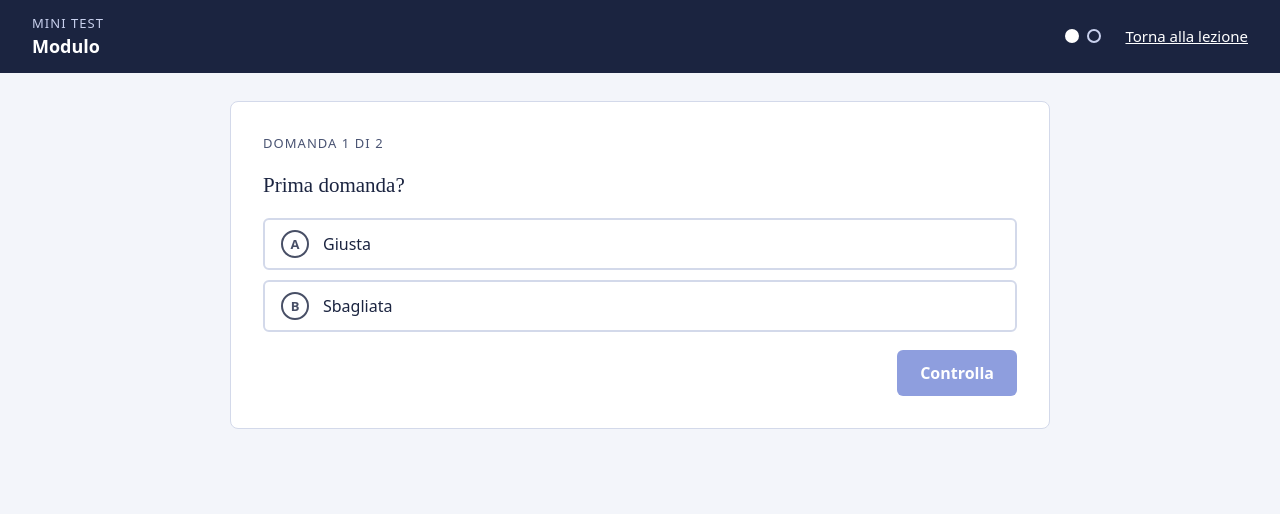
corregge subito ogni domanda e alla fine mostra il risultato
The width and height of the screenshot is (1280, 514).
Expected: the button "Controlla" is disabled, [897, 350, 1017, 396]
Click the button "B Sbagliata": (358, 306) [263, 280, 1017, 332]
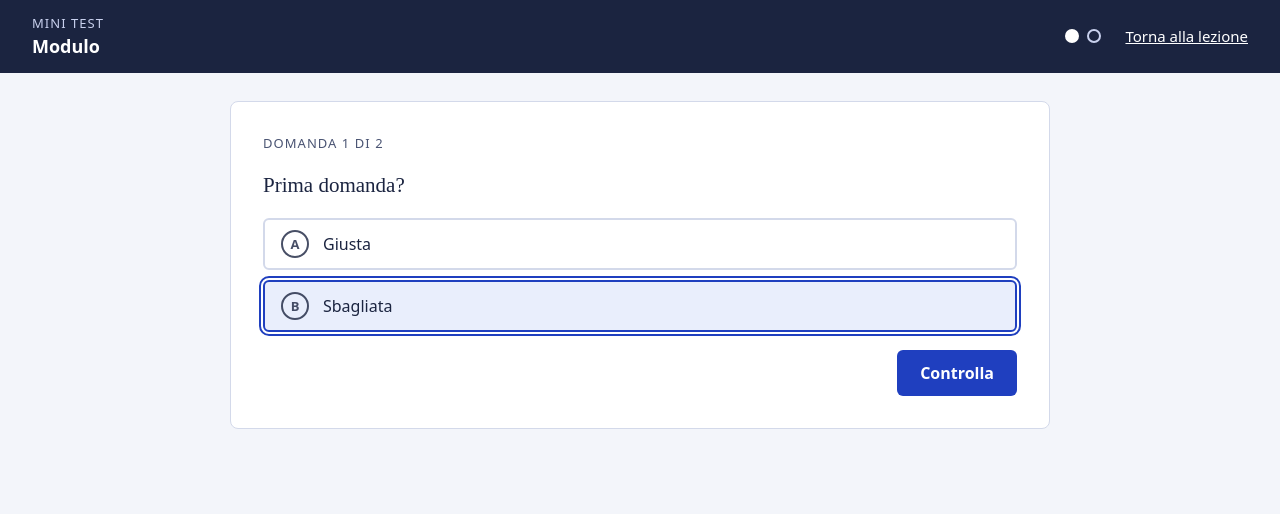
Click the button "Controlla": (957, 373) [897, 350, 1017, 396]
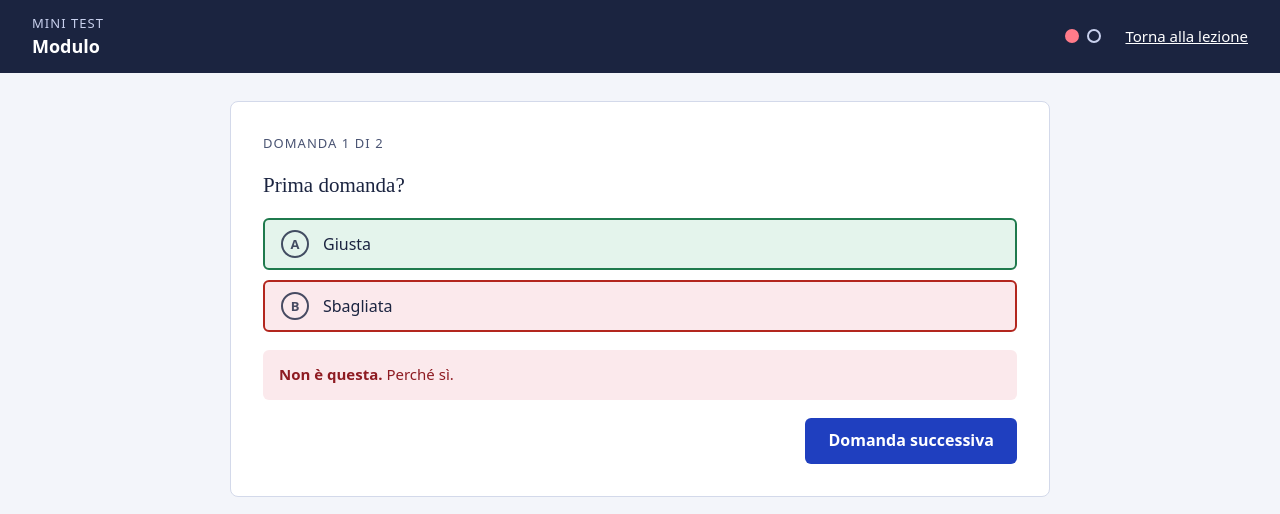
Result: the text "Non è questa." is shown at [279, 364, 382, 384]
Result: the text "Perché sì." is shown at [386, 364, 454, 384]
Click the button "Domanda successiva": (911, 441) [806, 418, 1017, 464]
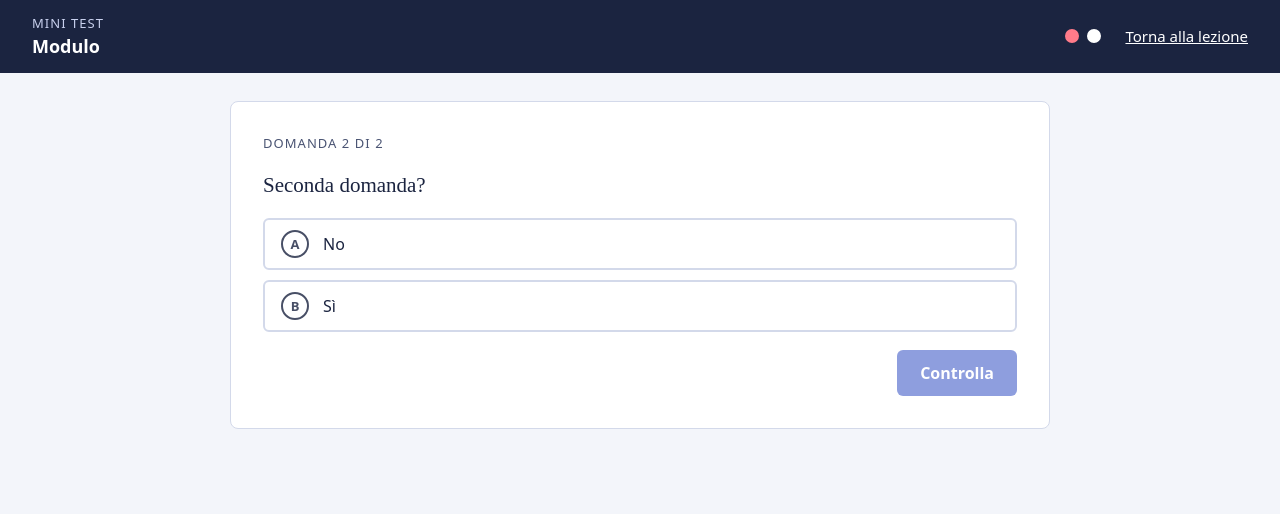
Click the button "B Sì": (295, 306) [263, 280, 1017, 332]
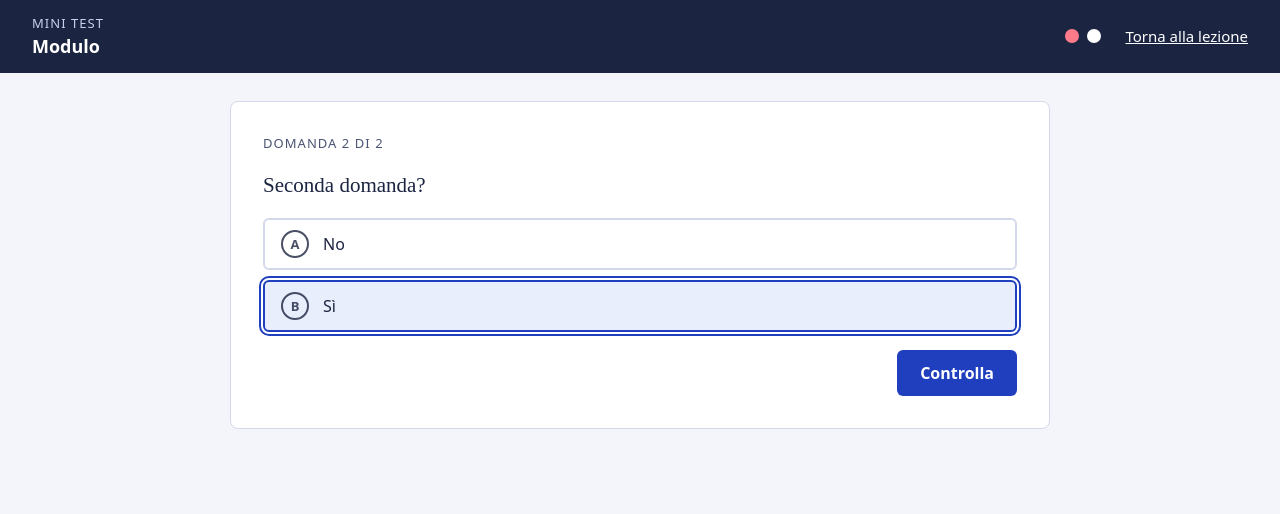
Click the button "Controlla": (957, 373) [897, 350, 1017, 396]
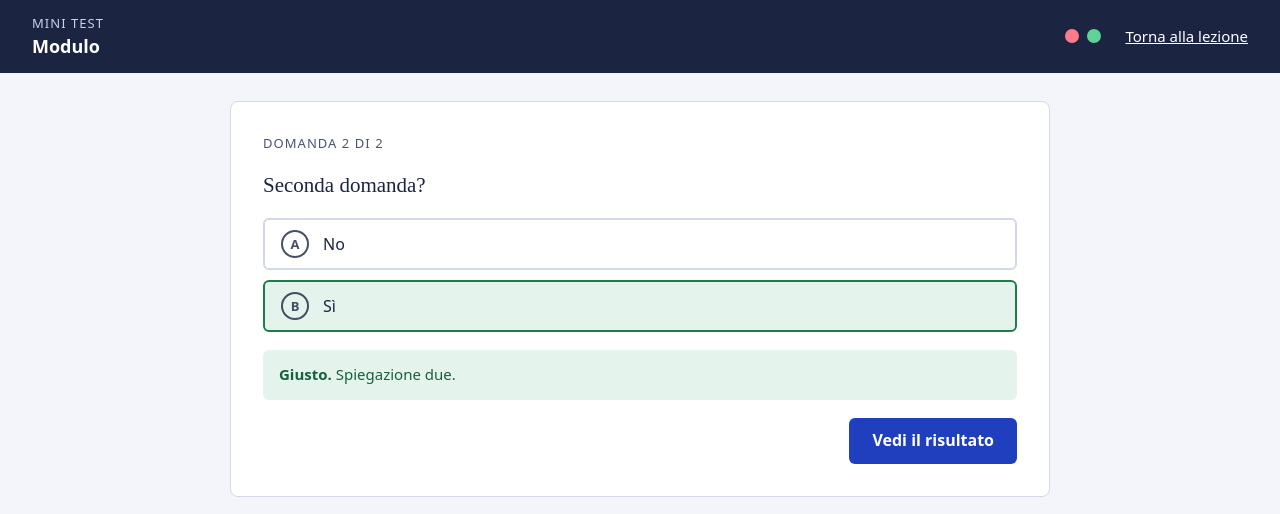
Result: the text "Giusto." is shown at [279, 364, 332, 384]
Click the button "Vedi il risultato": (933, 441) [849, 418, 1017, 464]
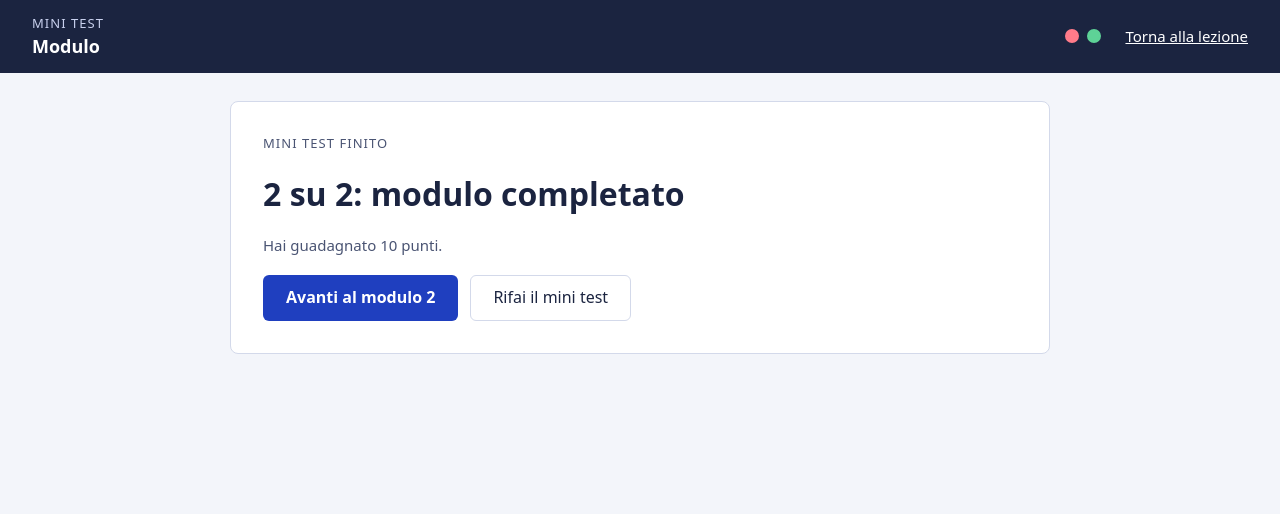
Result: the heading "2 su 2: modulo completato" is shown at [263, 172, 685, 215]
